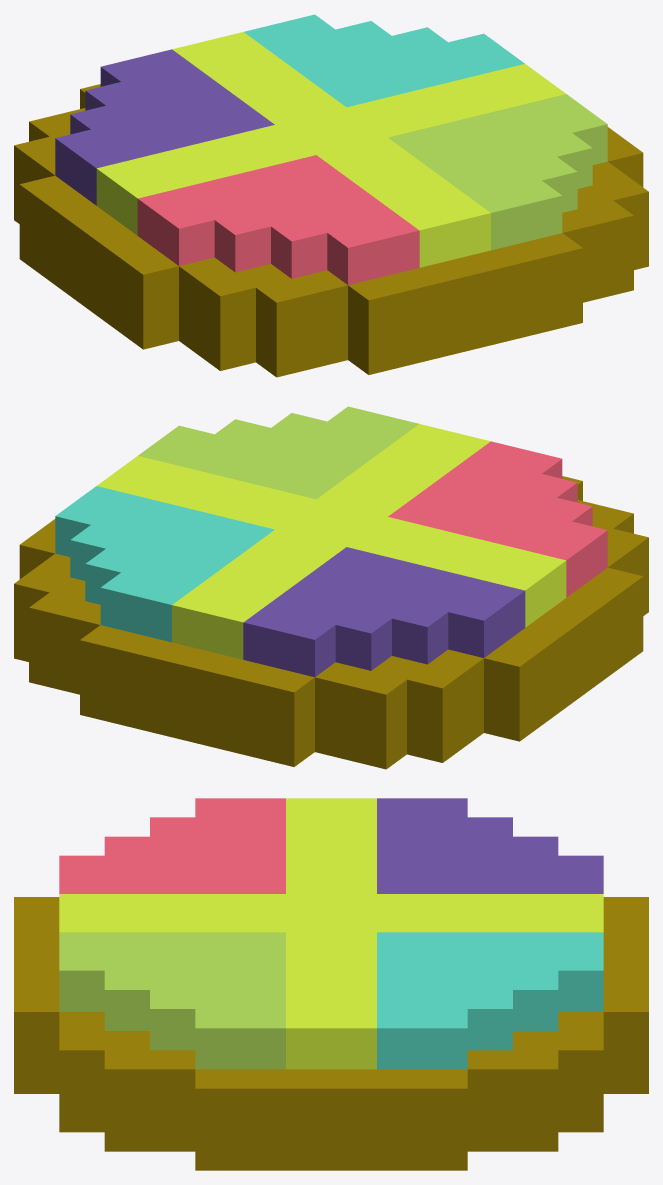
The model's file is item_CHOC_AMULET.glb.
The picture shows the model from 3 angles, top to bottom: view 1: azimuth 30°, elevation 25°; view 2: azimuth 150°, elevation 25°; view 3: azimuth 270°, elevation 25°; orthographic projection. The views are drawn at different scales.
Visible parts, largest first — view 1: item_CHOC_AMULET; view 2: item_CHOC_AMULET; view 3: item_CHOC_AMULET.
Part boxes in pixels (left/top/right/bottom): item_CHOC_AMULET: left=14, top=14, right=648, bottom=377; item_CHOC_AMULET: left=14, top=406, right=648, bottom=769; item_CHOC_AMULET: left=14, top=798, right=648, bottom=1170.
Bounding box in the file's own units: 0.3182 × 0.0682 × 0.3182.
Materials: 1 (1 with a texture image).
